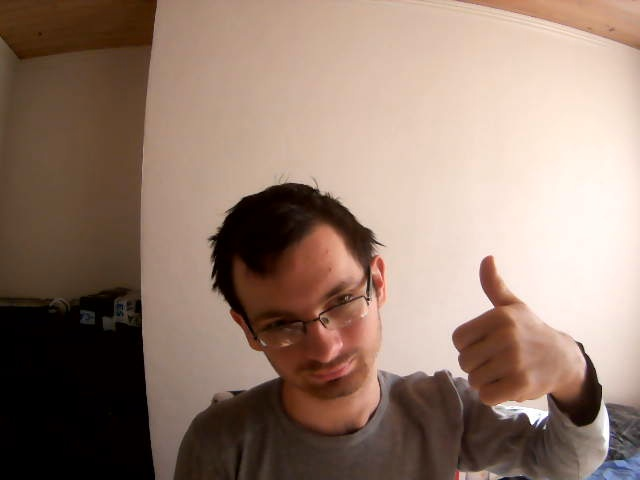nice: (453, 255, 565, 406)
